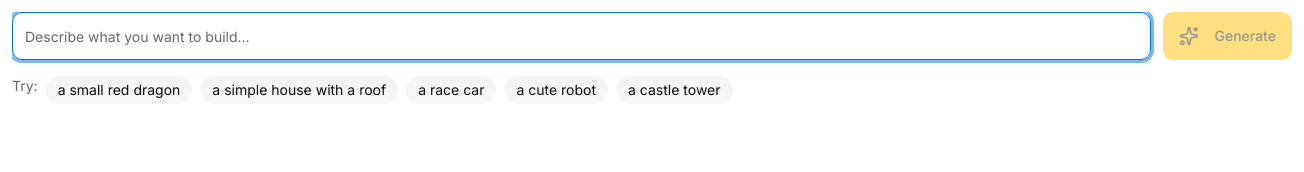
Test: PromptInput › enables submit button when input has text
Step 1. Type "a small dragon" into the field with placeholder "Describe what you want to build..." → [581, 36], box x1=12 y1=12 x2=1150 y2=60
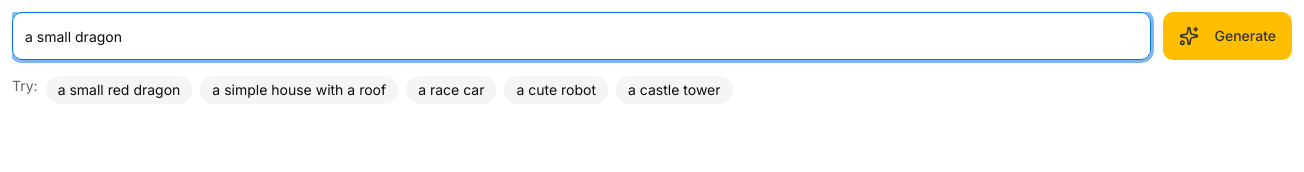
Now the button "Generate" is enabled, box x1=1162 y1=12 x2=1292 y2=60
